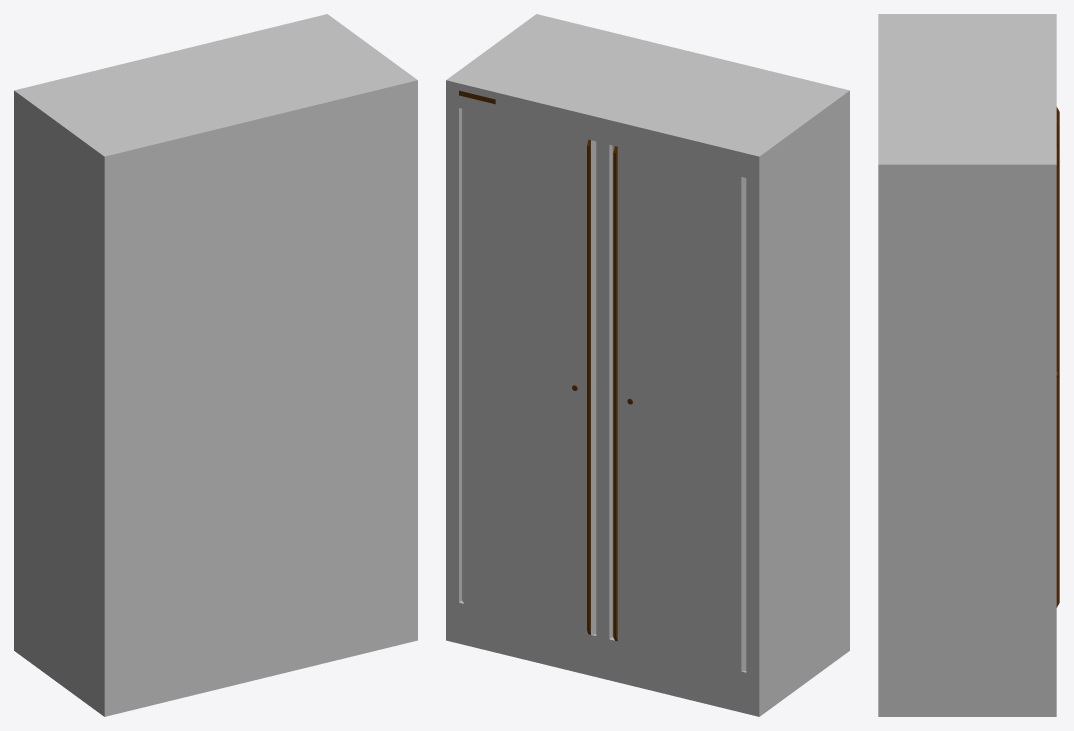
3 renders of one model, left to right at view 1: azimuth 30°, elevation 25°; view 2: azimuth 150°, elevation 25°; view 3: azimuth 270°, elevation 25°, orthographic.
Parts seen in each view (by area): view 1: mesh16_mesh16-geometry; view 2: mesh16_mesh16-geometry, mesh9_mesh9-geometry, mesh7_mesh7-geometry, mesh6_mesh6-geometry, mesh3_mesh3-geometry, mesh2_mesh2-geometry, mesh8_mesh8-geometry; view 3: mesh16_mesh16-geometry, mesh2_mesh2-geometry.
Boxes of the visible parts, x1,y1,x2,y2 form: mesh16_mesh16-geometry: (14,14,417,716); mesh16_mesh16-geometry: (446,14,849,716); mesh9_mesh9-geometry: (617,147,746,671); mesh7_mesh7-geometry: (462,109,588,633); mesh6_mesh6-geometry: (591,140,596,634); mesh3_mesh3-geometry: (613,146,617,641); mesh2_mesh2-geometry: (587,139,590,634); mesh8_mesh8-geometry: (612,145,614,639); mesh16_mesh16-geometry: (878,14,1056,716); mesh2_mesh2-geometry: (1056,120,1059,607).
Bounding box in the file's own units: 0.486 × 0.8383 × 0.247.
